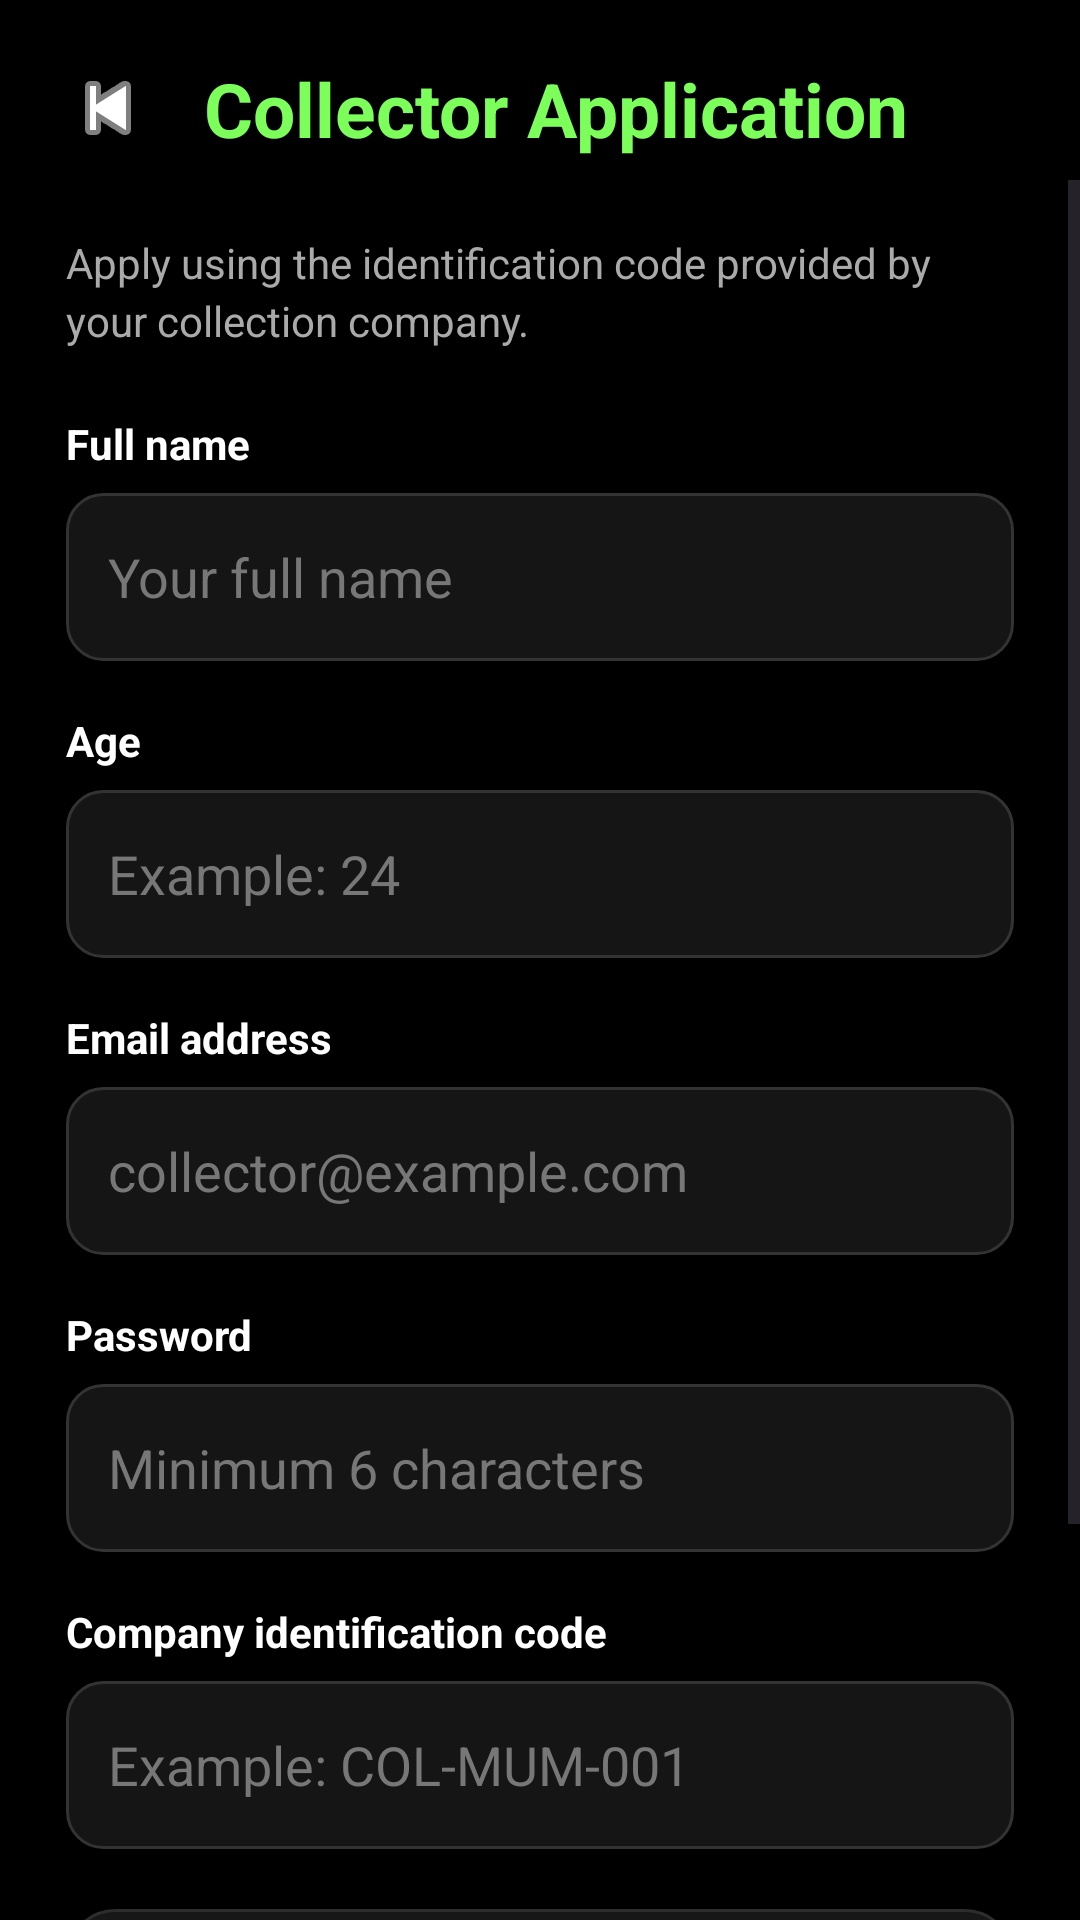

Named icons in this screenshot (1080w x 1920h) and their centers, [x,y]:
Back: [108,108]
